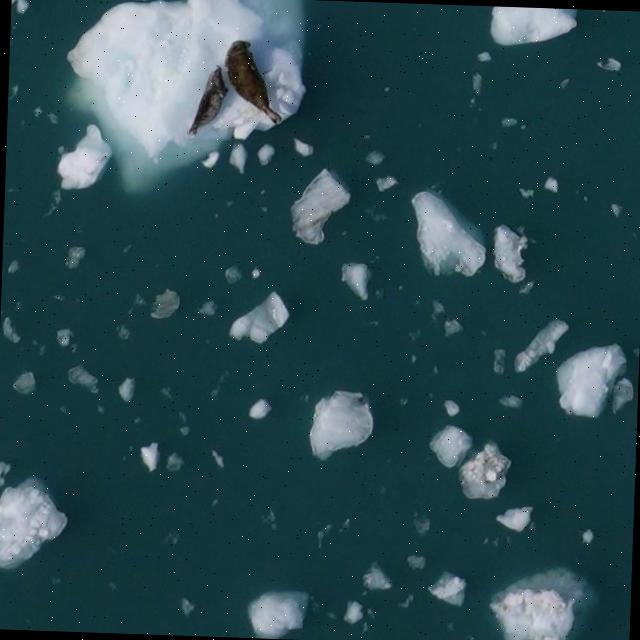seal: (225, 43, 281, 124), (187, 66, 228, 137)
